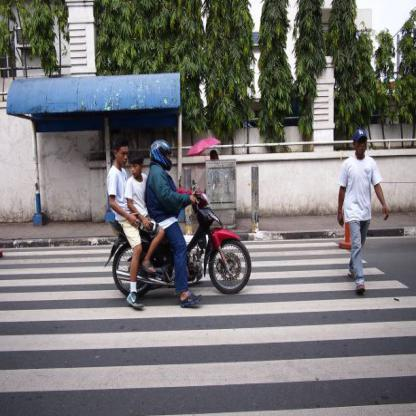Motorcycle: (102, 186, 257, 306)
